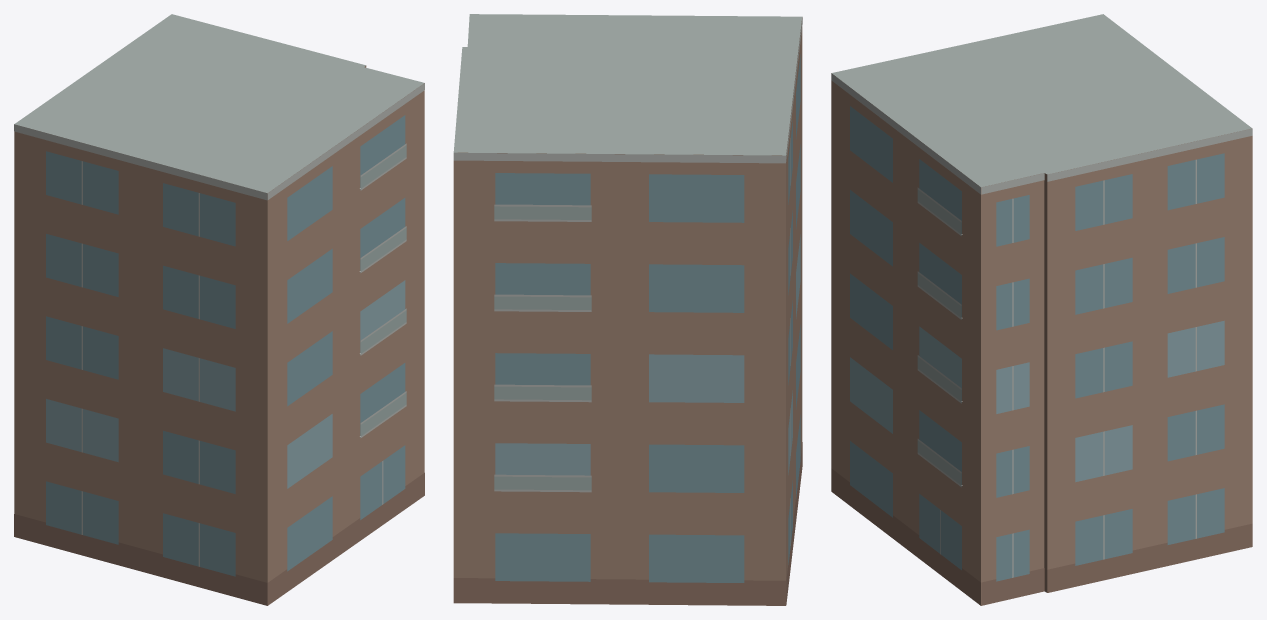
Rendered from survey-upis-32970113.glb.
3 renders of one model, left to right at view 1: azimuth 30°, elevation 25°; view 2: azimuth 150°, elevation 25°; view 3: azimuth 270°, elevation 25°, orthographic. The views are drawn at different scales.
Parts seen in each view (by area): view 1: survey-upis-32970113.tmp; view 2: survey-upis-32970113.tmp; view 3: survey-upis-32970113.tmp.
Boxes of the visible parts, box(x1,y1,x2,y2) form: survey-upis-32970113.tmp: box(14, 14, 424, 605); survey-upis-32970113.tmp: box(453, 14, 802, 605); survey-upis-32970113.tmp: box(831, 14, 1252, 605).
Size of the model in its own units: 12.36 by 13.9 by 12.68.
